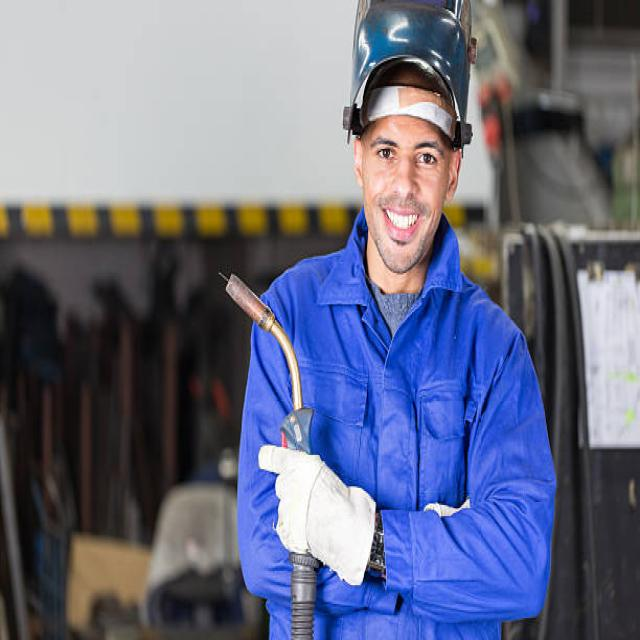gloves: (256, 444, 378, 585)
